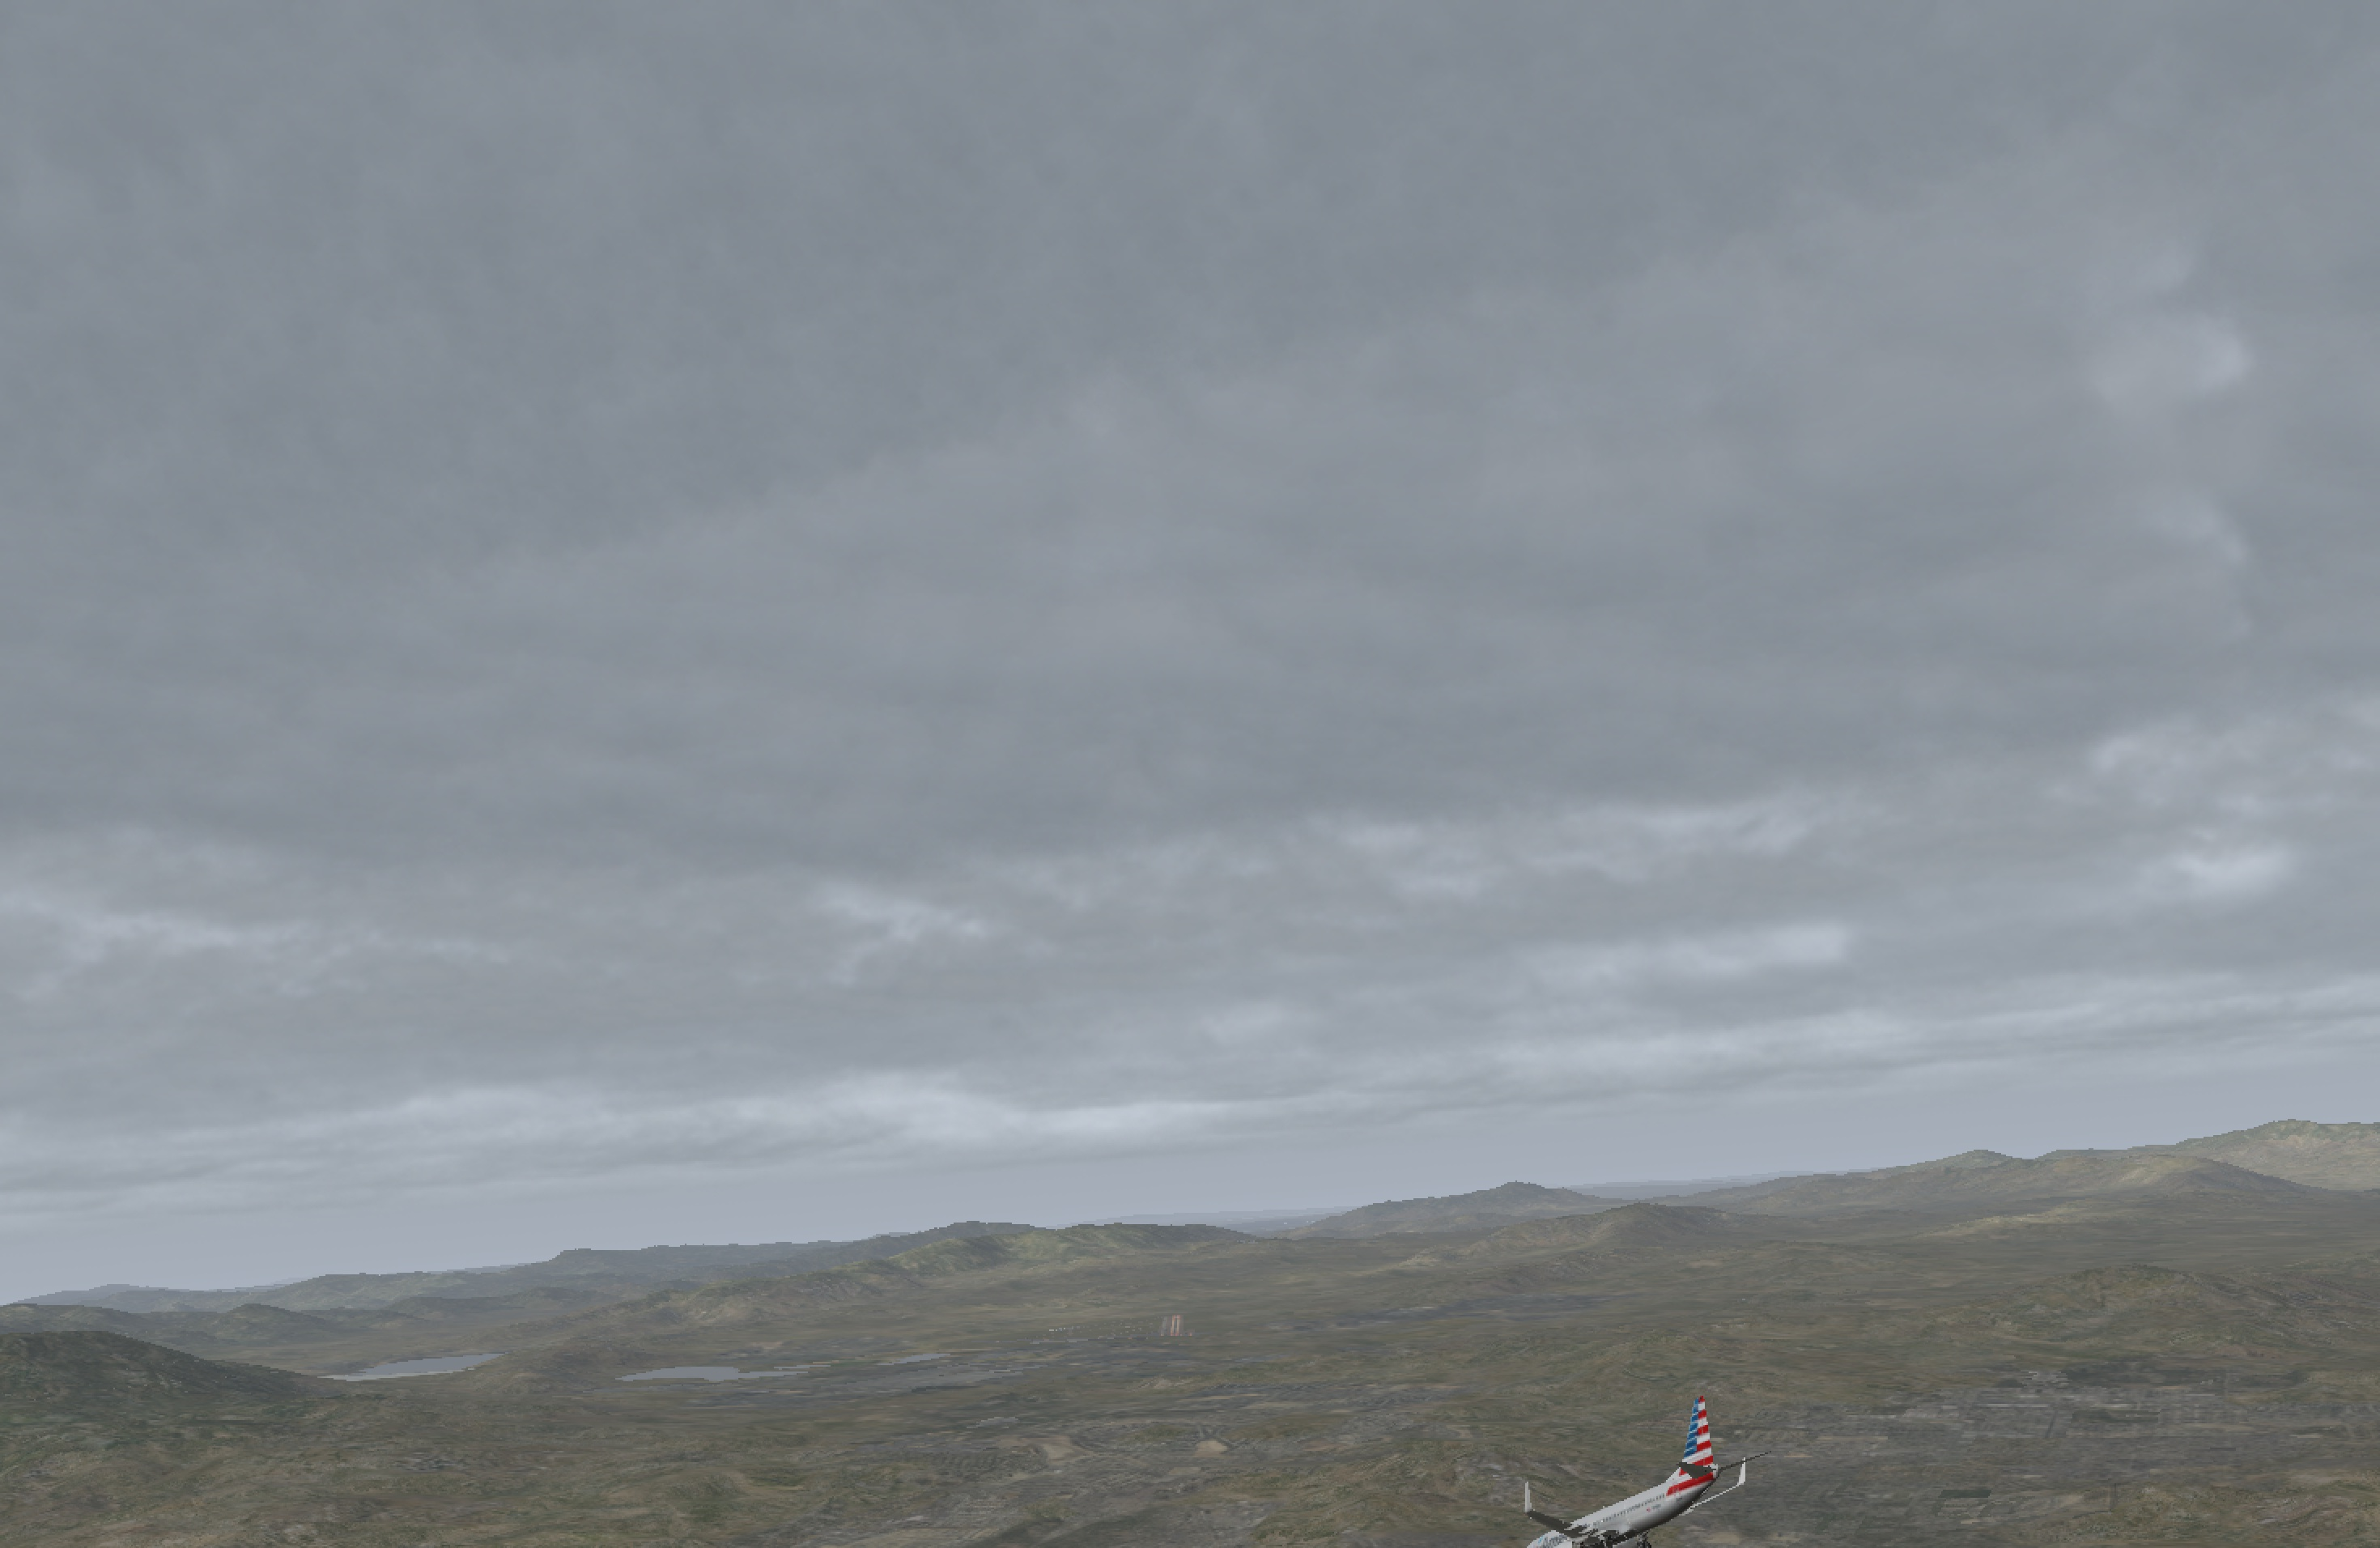aircraft: (1459, 1473, 1766, 1548)
